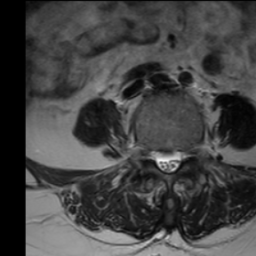CCS_normal: (164, 137, 173, 182)
LFS_normal: (182, 138, 193, 167)
LLS_normal: (173, 137, 182, 178)
RFS_normal: (144, 135, 154, 168)
RLS_normal: (154, 140, 164, 177)
